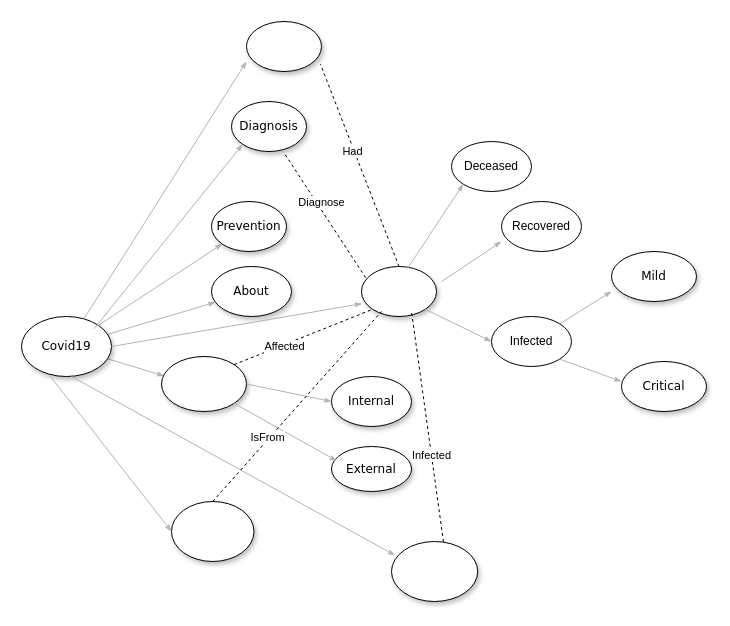
Image size: 730x626. Some labels were removed from this diagram. Here are the shapes that lost their labels. From the top down, the centre of each, then its label:
(285,47): Symptoms
(399,293): Patients
(204,385): Decease Areas
(213,532): Country
(435,572): Transmission Mode
